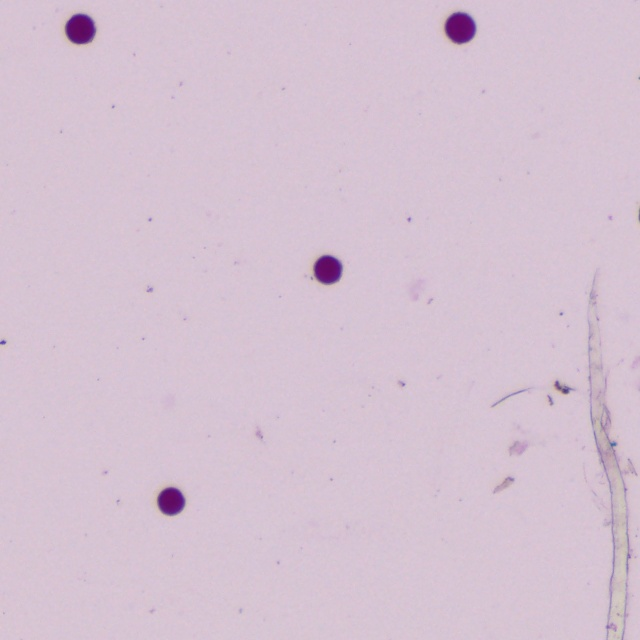viable: (446, 13, 475, 43), (67, 15, 95, 43), (315, 256, 342, 283), (158, 488, 184, 515)
